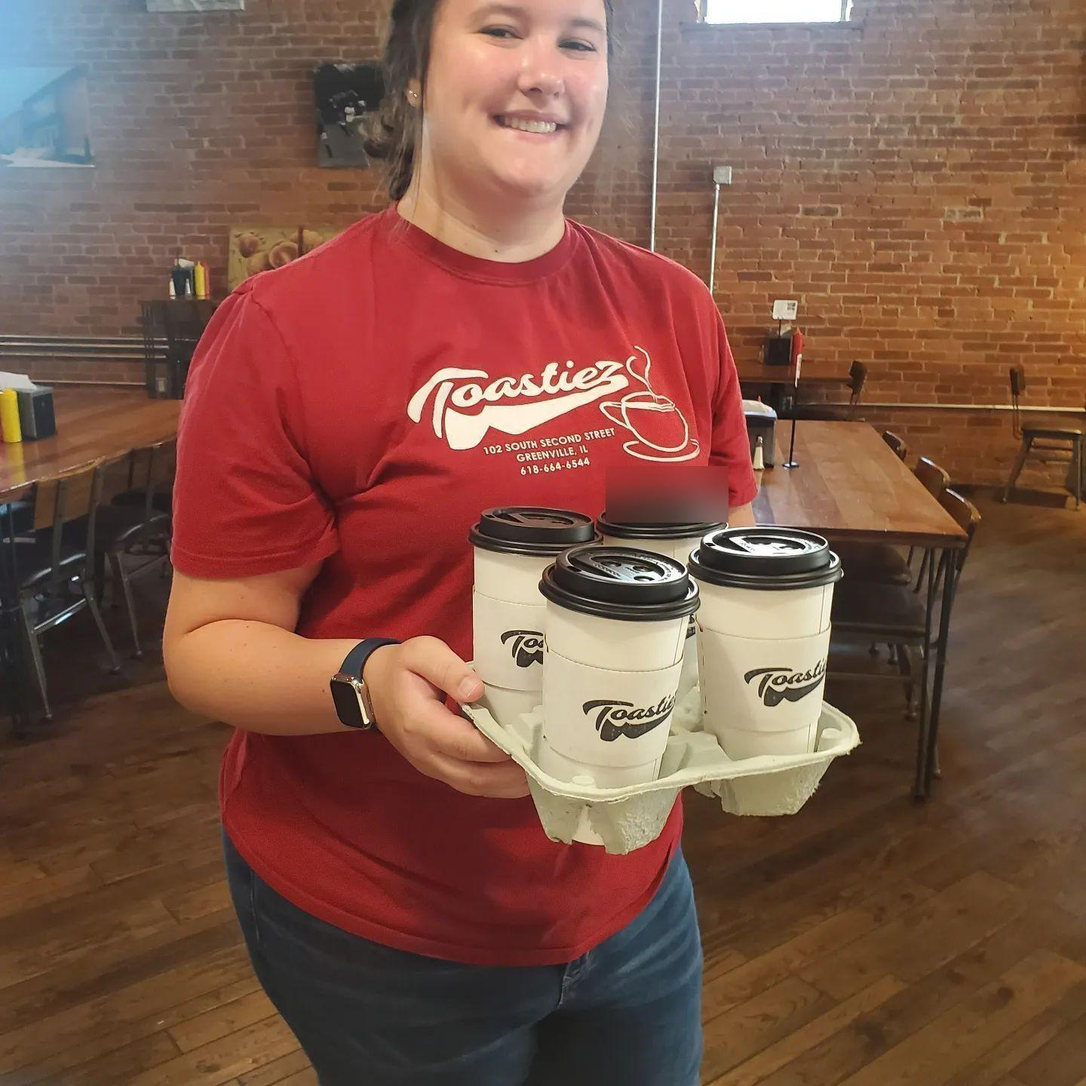cup-disposable: (538, 543, 702, 778), (692, 523, 845, 758), (468, 504, 601, 722)
